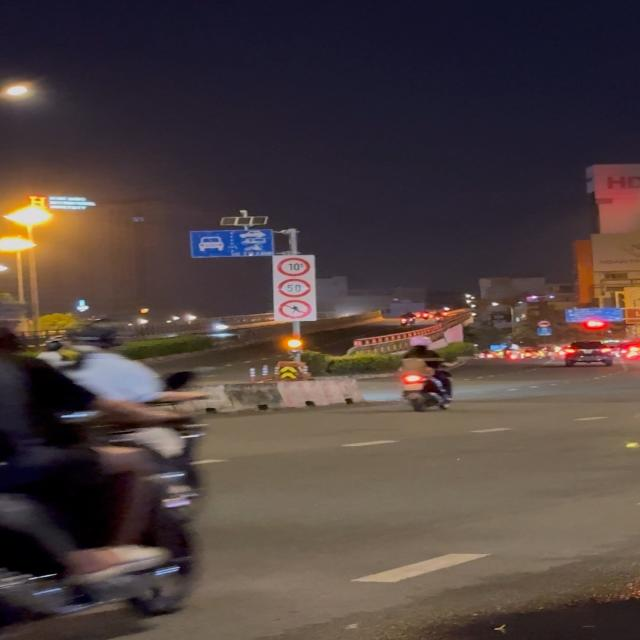Bien bao cam nguoi di bo: (276, 299, 313, 319)
Bien bao toc do toi da cho phep: (276, 277, 314, 299)
